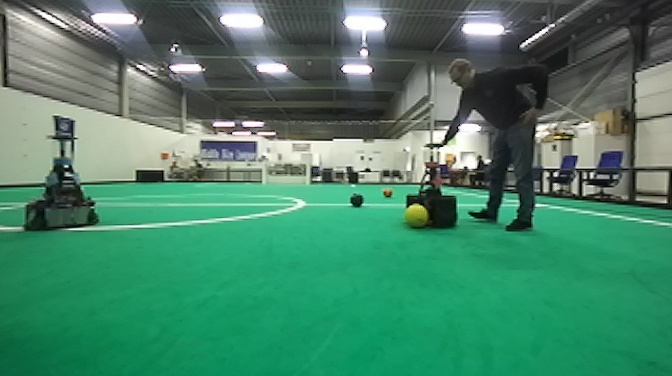ball: (402, 200, 429, 229), (349, 192, 366, 207), (382, 188, 392, 197)
goal: (259, 156, 314, 188)
goalpost: (305, 159, 313, 188), (260, 160, 268, 185)
humen: (421, 55, 556, 239)
robot: (22, 129, 105, 236), (404, 140, 462, 236)
